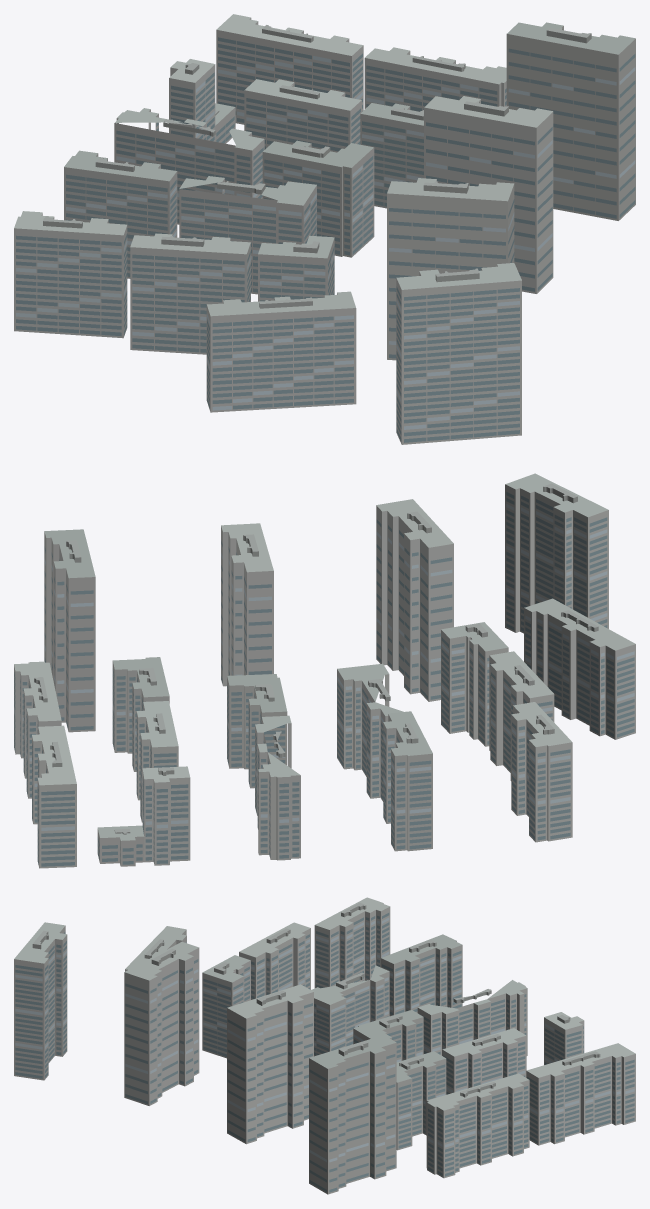
The model's file is apt-a10024152.glb.
The picture shows the model from 3 angles, top to bottom: view 1: azimuth 30°, elevation 25°; view 2: azimuth 150°, elevation 25°; view 3: azimuth 270°, elevation 25°; orthographic projection. The views are drawn at different scales.
Parts seen in each view (by area): view 1: apt-a10024152; view 2: apt-a10024152; view 3: apt-a10024152.
Boxes of the visible parts, x1,y1,x2,y2 form: apt-a10024152: (14, 14, 635, 444); apt-a10024152: (14, 473, 635, 868); apt-a10024152: (14, 897, 635, 1194).
Size of the model in its own units: 272 by 75 by 326.
